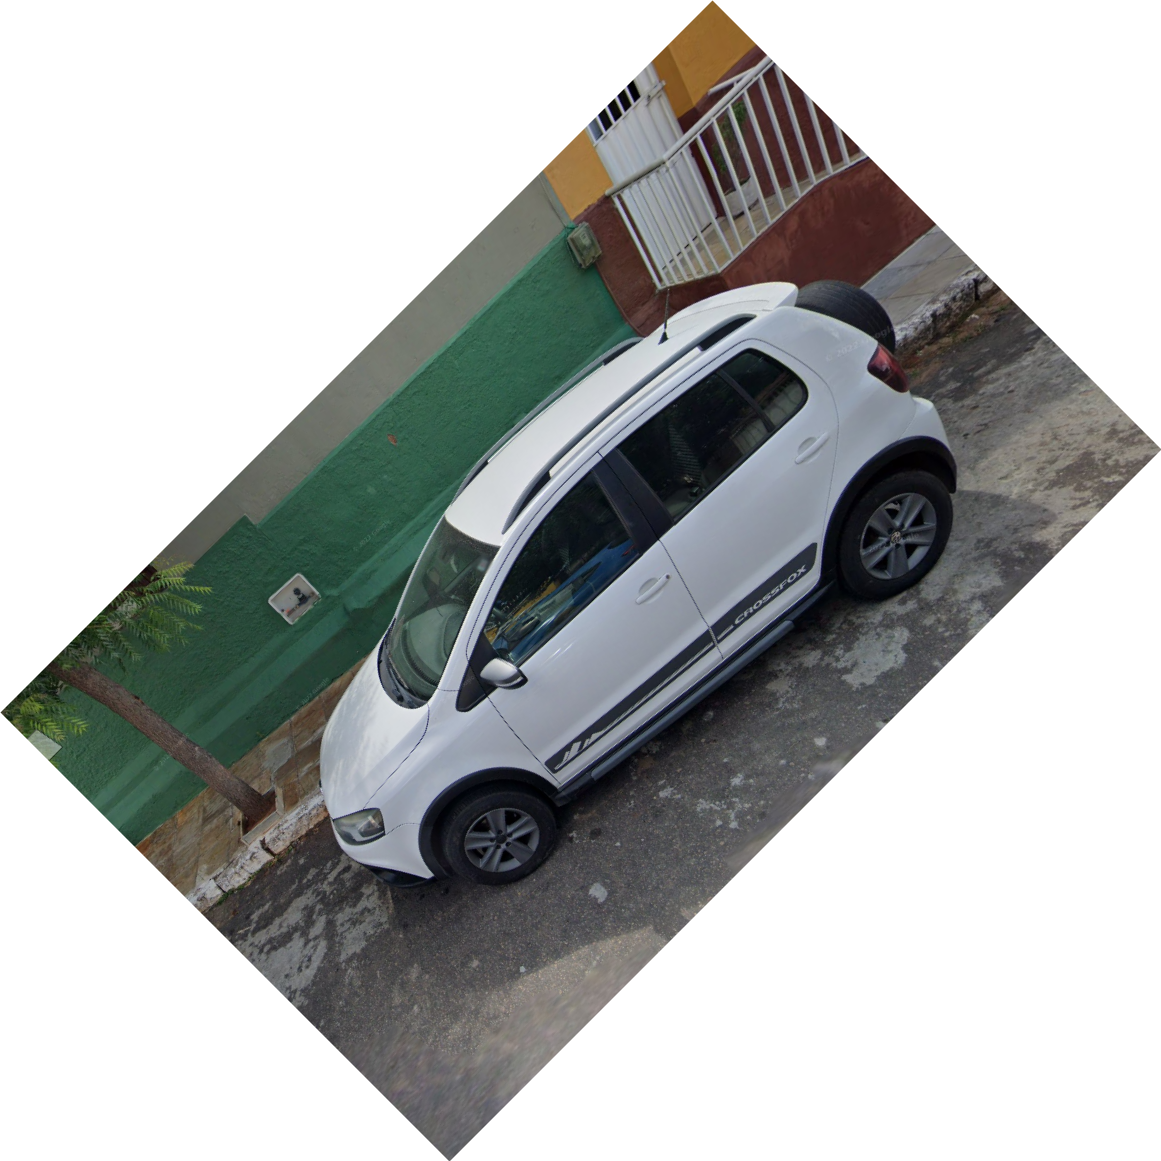car: (313, 270, 962, 957)
